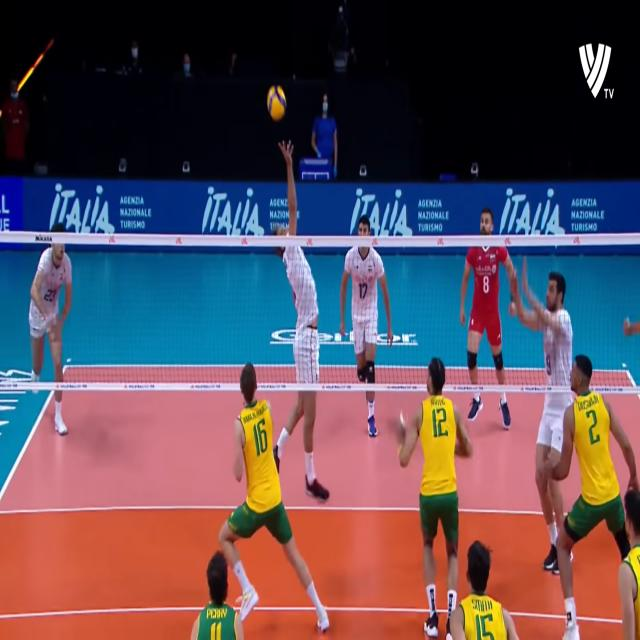player: (217, 357, 331, 636), (552, 354, 640, 640), (399, 350, 472, 638), (514, 264, 581, 576), (273, 206, 331, 498), (461, 209, 517, 430), (341, 215, 393, 442), (29, 223, 71, 435)
